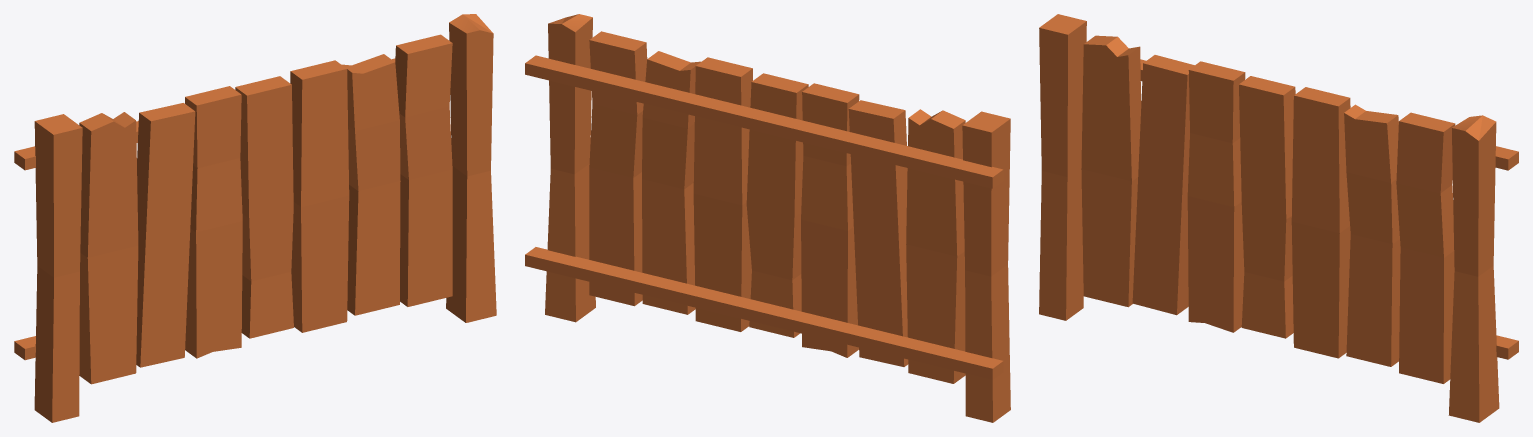
The model's file is fence-wood.glb.
3 renders of one model, left to right at view 1: azimuth 30°, elevation 25°; view 2: azimuth 150°, elevation 25°; view 3: azimuth 330°, elevation 25°, orthographic.
Visible parts, largest first — view 1: WoodFence2; view 2: WoodFence2; view 3: WoodFence2.
Part boxes in pixels (x1,y1,x2,y2): WoodFence2: (14,14,496,422); WoodFence2: (525,14,1010,422); WoodFence2: (1039,14,1518,422).
Size of the model in its own units: 3 by 1.8 by 0.3263.
